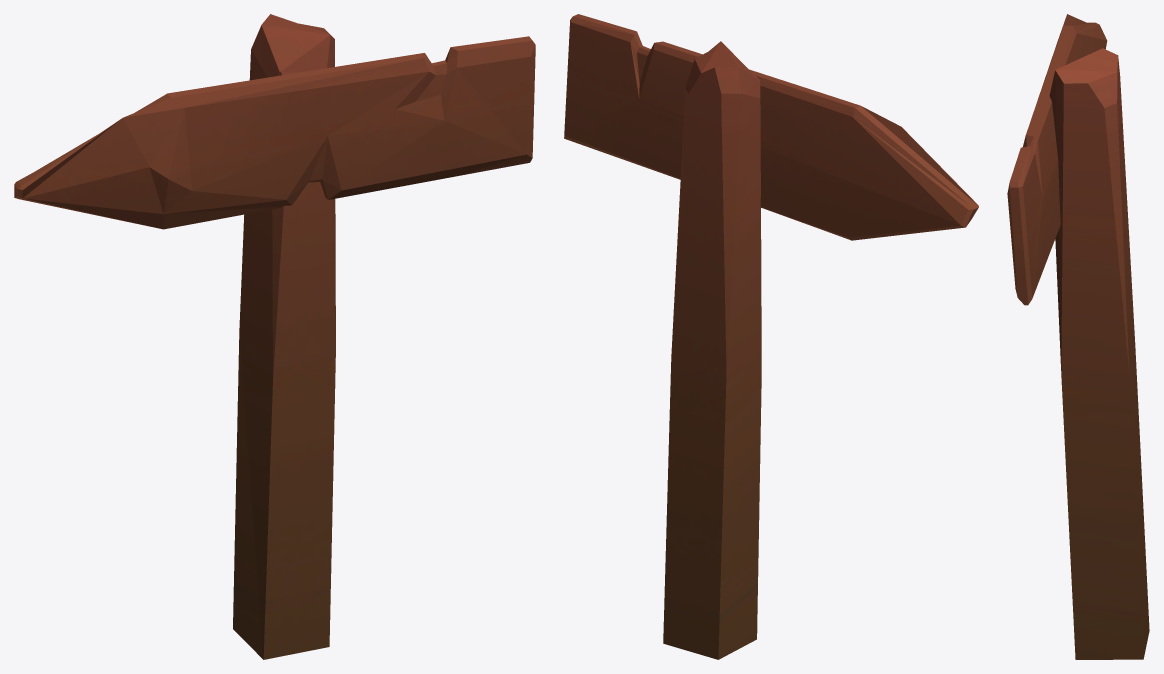
The picture shows the model from 3 angles, left to right: view 1: azimuth 30°, elevation 25°; view 2: azimuth 150°, elevation 25°; view 3: azimuth 270°, elevation 25°; orthographic projection. The views are drawn at different scales.
Visible parts, largest first — view 1: Signpost2; view 2: Signpost2; view 3: Signpost2.
Boxes of the visible parts, left/top/right/bottom form: Signpost2: left=14, top=14, right=535, bottom=659; Signpost2: left=564, top=14, right=978, bottom=659; Signpost2: left=1007, top=14, right=1149, bottom=659.
Size of the model in its own units: 136 by 170 by 37.25.
1 material, 1 textured.
